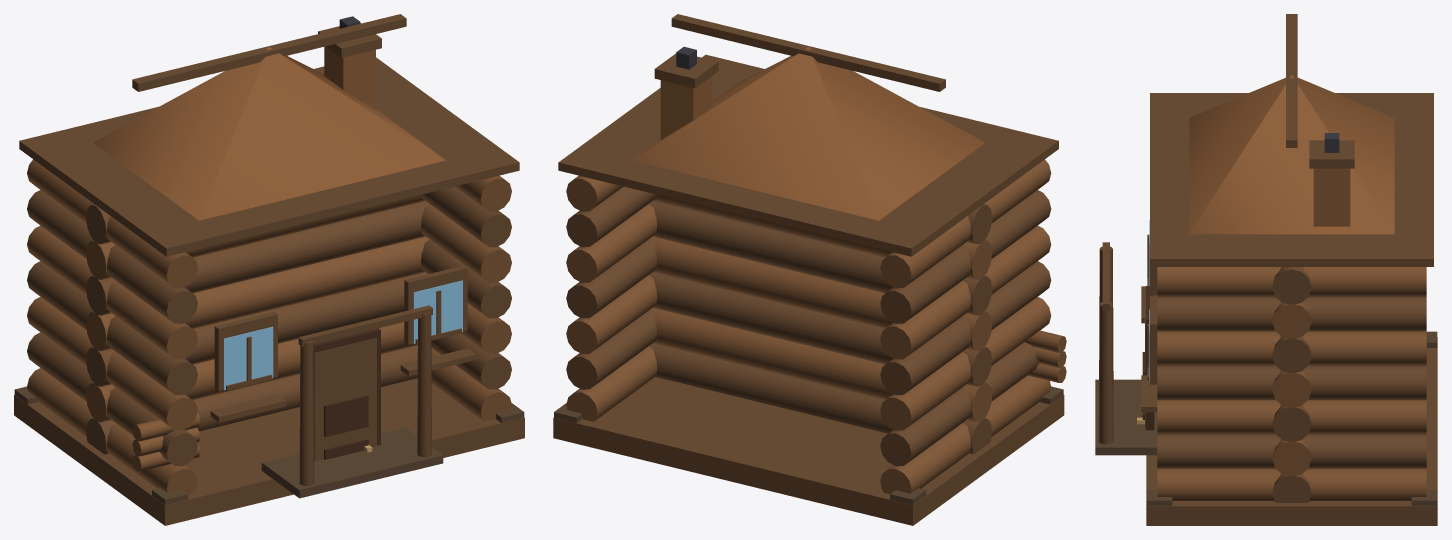
File: cabin.glb
3 renders of one model, left to right at view 1: azimuth 30°, elevation 25°; view 2: azimuth 150°, elevation 25°; view 3: azimuth 270°, elevation 25°, orthographic. The views are drawn at different scales.
Parts seen in each view (by area): view 1: cabin; view 2: cabin; view 3: cabin.
Part boxes in pixels (left/top/right/bottom): cabin: left=14, top=14, right=524, bottom=525; cabin: left=553, top=14, right=1066, bottom=525; cabin: left=1095, top=14, right=1437, bottom=525.
Size of the model in its own units: 5.7 by 5.55 by 4.7.
